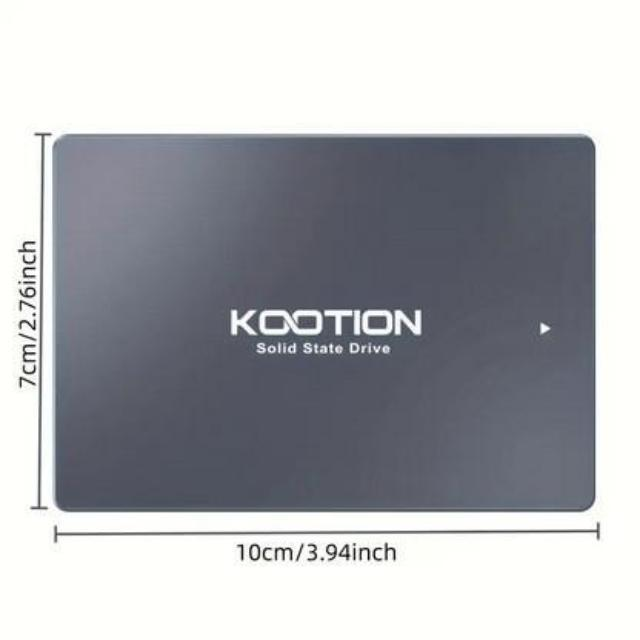DISK: (38, 126, 608, 520)
